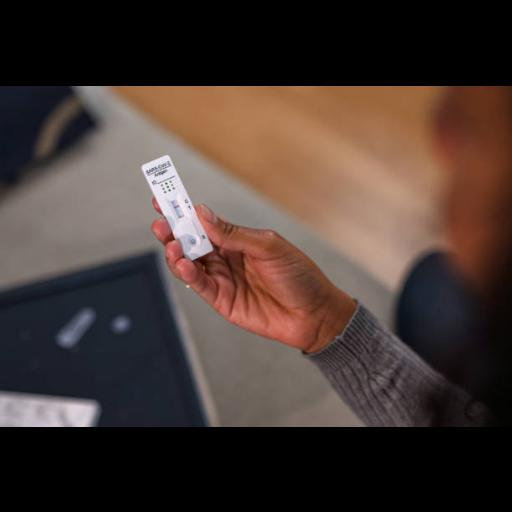Neg: (141, 153, 215, 262)
